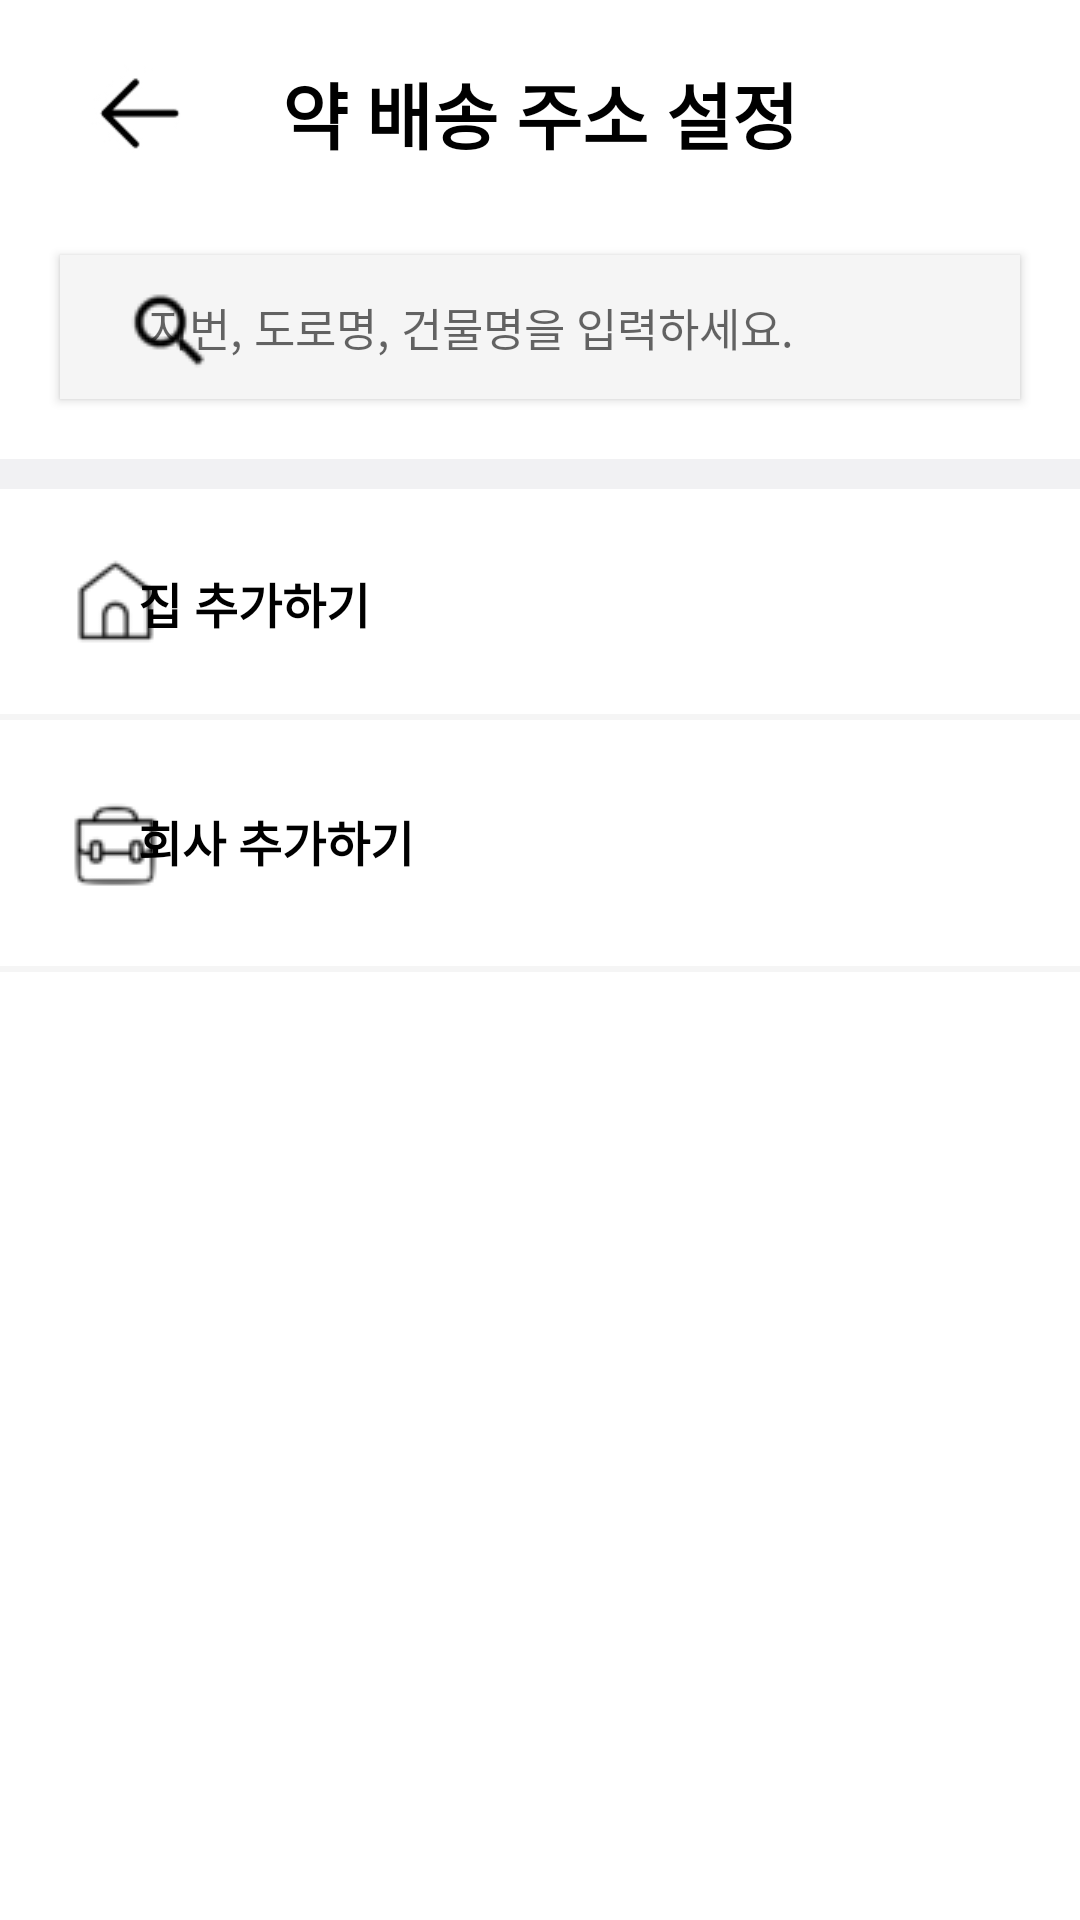

Icons on this 1080px x 1920px Android screen, each with the point to tap as [x,y]:
login page backarrow: [139,113]
